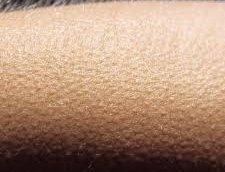Goosebumps: (0, 1, 224, 171)
